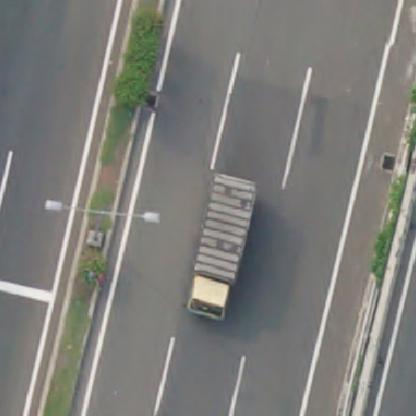truck: (186, 172, 257, 320)
